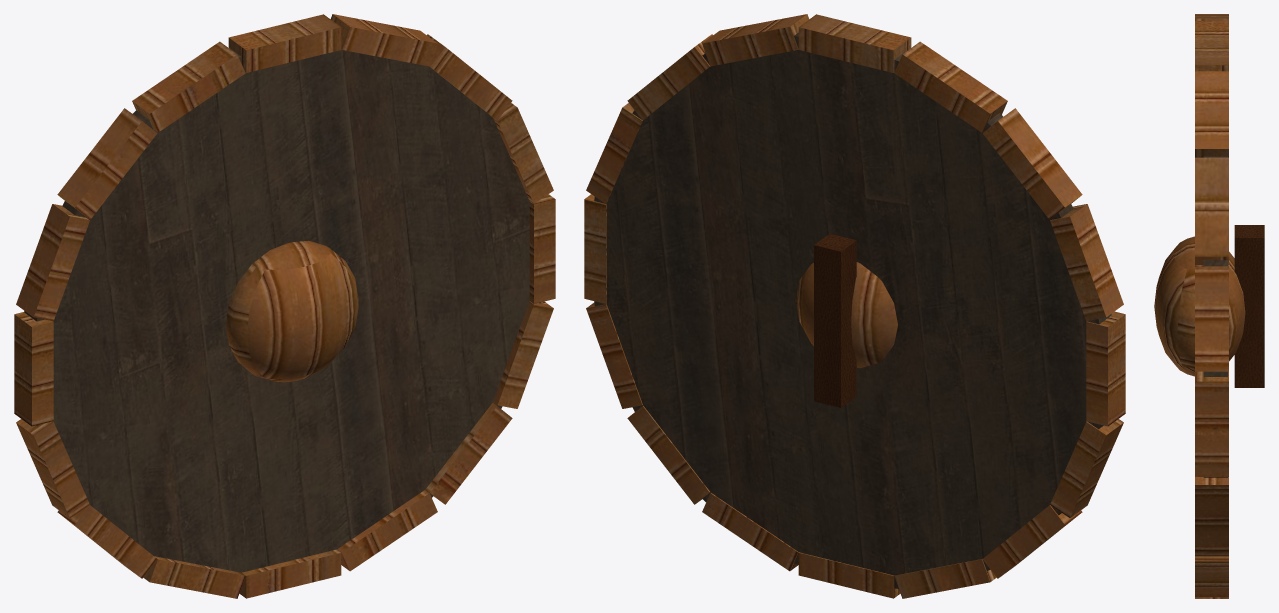
The model's file is wpn_iron_shield.glb.
3 views of the same model, side by side, from view 1: azimuth 30°, elevation 25°; view 2: azimuth 150°, elevation 25°; view 3: azimuth 270°, elevation 25° (orthographic). The views are drawn at different scales.
Parts seen in each view (by area): view 1: WPN_IronShield; view 2: WPN_IronShield; view 3: WPN_IronShield.
Part boxes in pixels (bbox=[...]): WPN_IronShield: bbox=[14, 14, 555, 598]; WPN_IronShield: bbox=[584, 14, 1125, 598]; WPN_IronShield: bbox=[1154, 14, 1264, 598].
Size of the model in its own units: 0.772 by 0.772 by 0.1468.
Materials: 3 (3 with a texture image).
